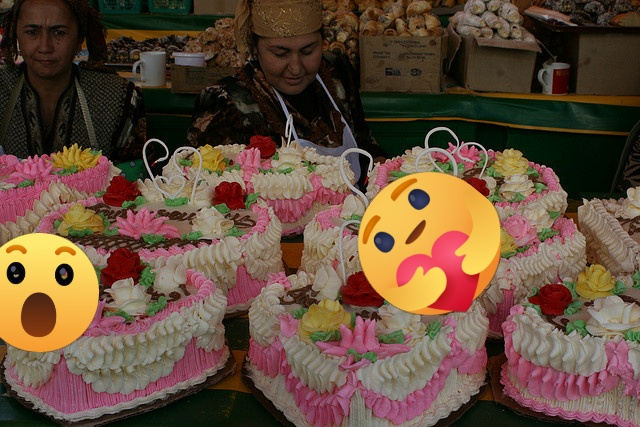care: (358, 172, 501, 315)
wow: (0, 233, 99, 352)
